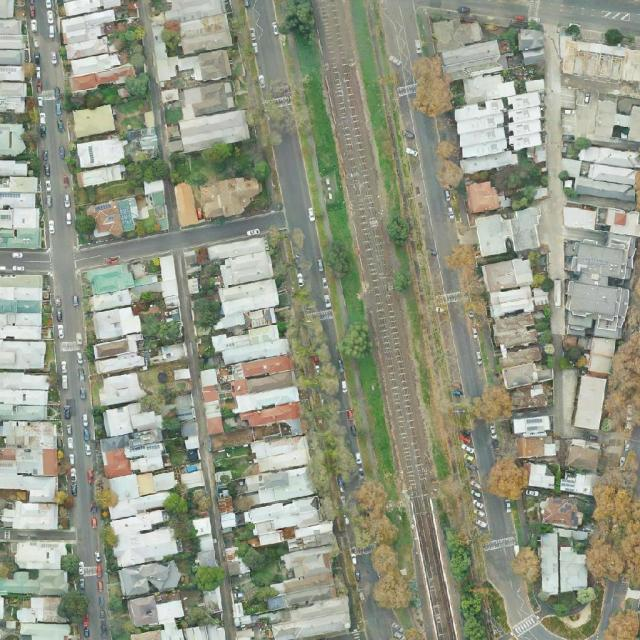building: (227, 428, 358, 640), (143, 0, 250, 156), (99, 427, 191, 597), (195, 235, 289, 366), (83, 263, 151, 407), (219, 353, 306, 445), (55, 0, 136, 93), (552, 85, 640, 153), (448, 96, 519, 175), (504, 367, 562, 463), (488, 308, 553, 392), (431, 11, 504, 82), (173, 173, 264, 228), (559, 143, 640, 201), (563, 270, 630, 339), (571, 334, 618, 432), (554, 35, 640, 86), (474, 206, 545, 257), (481, 256, 538, 317), (507, 79, 547, 163), (72, 134, 130, 187), (540, 532, 588, 595), (85, 197, 143, 242), (537, 497, 592, 541), (101, 399, 163, 438), (460, 68, 516, 105), (200, 368, 224, 435), (71, 105, 116, 139), (465, 180, 502, 214), (565, 438, 602, 472), (572, 193, 637, 211), (159, 255, 180, 308), (210, 427, 254, 451), (517, 28, 545, 65), (129, 280, 164, 303), (560, 474, 598, 495), (527, 463, 556, 488), (107, 420, 134, 436), (146, 273, 157, 279)
greenland: (271, 280, 369, 498), (274, 0, 346, 180), (315, 193, 374, 362), (349, 477, 414, 614), (378, 145, 417, 293), (441, 525, 491, 640), (169, 141, 270, 187), (493, 152, 558, 215), (66, 72, 153, 113), (238, 542, 286, 614), (132, 287, 184, 351), (453, 242, 491, 326), (480, 452, 535, 507), (409, 54, 453, 119), (507, 543, 550, 586), (472, 384, 514, 424), (192, 276, 221, 330), (129, 148, 169, 183), (436, 140, 464, 188), (56, 588, 91, 626), (115, 23, 144, 67), (160, 490, 193, 523), (195, 566, 224, 591), (75, 211, 95, 235)
metalled_road: (72, 210, 288, 272), (266, 104, 328, 292), (392, 107, 462, 265), (478, 542, 538, 633), (246, 0, 291, 100), (446, 299, 490, 399), (468, 418, 501, 488), (480, 485, 518, 545), (426, 252, 459, 297), (360, 595, 391, 640), (0, 251, 52, 274), (518, 625, 550, 639)
